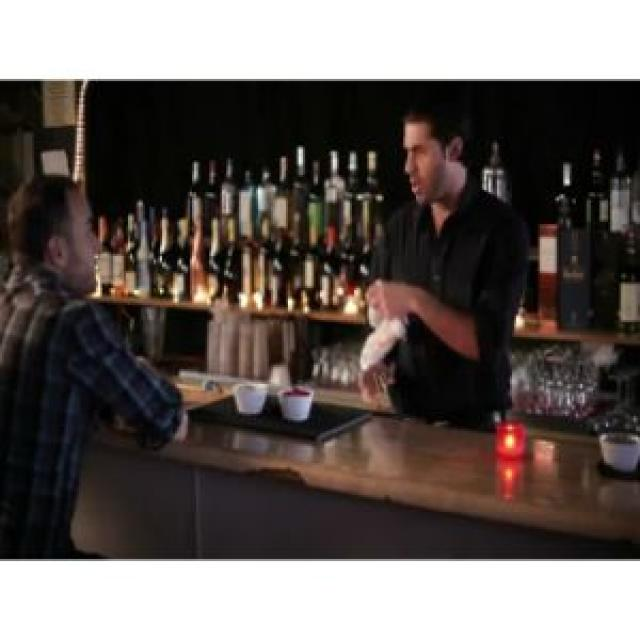nonfall: (362, 105, 523, 412)
